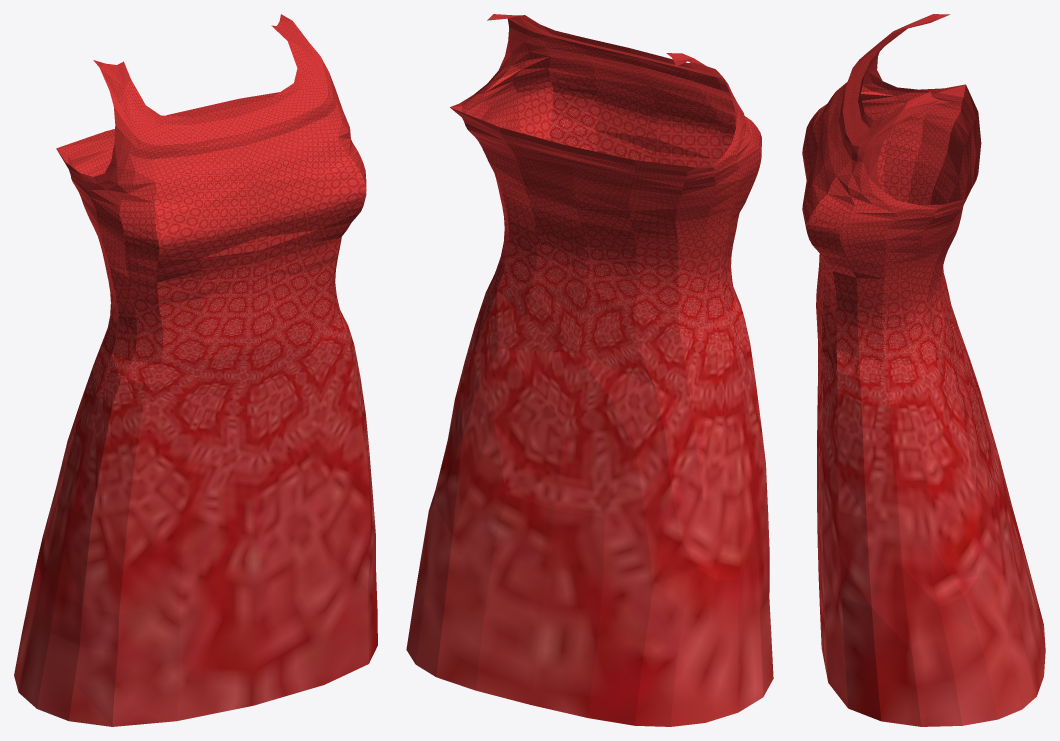
File: dress_red.obj
The picture shows the model from 3 angles, left to right: view 1: azimuth 30°, elevation 25°; view 2: azimuth 150°, elevation 25°; view 3: azimuth 270°, elevation 25°; orthographic projection. The views are drawn at different scales.
Visible parts, largest first — view 1: V4_Dress_Starter; view 2: V4_Dress_Starter; view 3: V4_Dress_Starter.
Boxes of the visible parts, x1,y1,x2,y2 form: V4_Dress_Starter: (14, 14, 377, 726); V4_Dress_Starter: (406, 14, 773, 726); V4_Dress_Starter: (802, 14, 1045, 726).
Size of the model in its own units: 0.4642 by 0.834 by 0.3101.
1 material, 1 textured.
